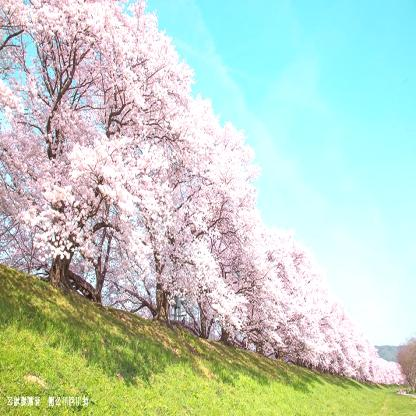Someiyoshino: (3, 4, 127, 269), (113, 0, 182, 306), (175, 94, 259, 328), (240, 224, 312, 350), (290, 266, 362, 376), (354, 336, 405, 387), (397, 336, 415, 389)
